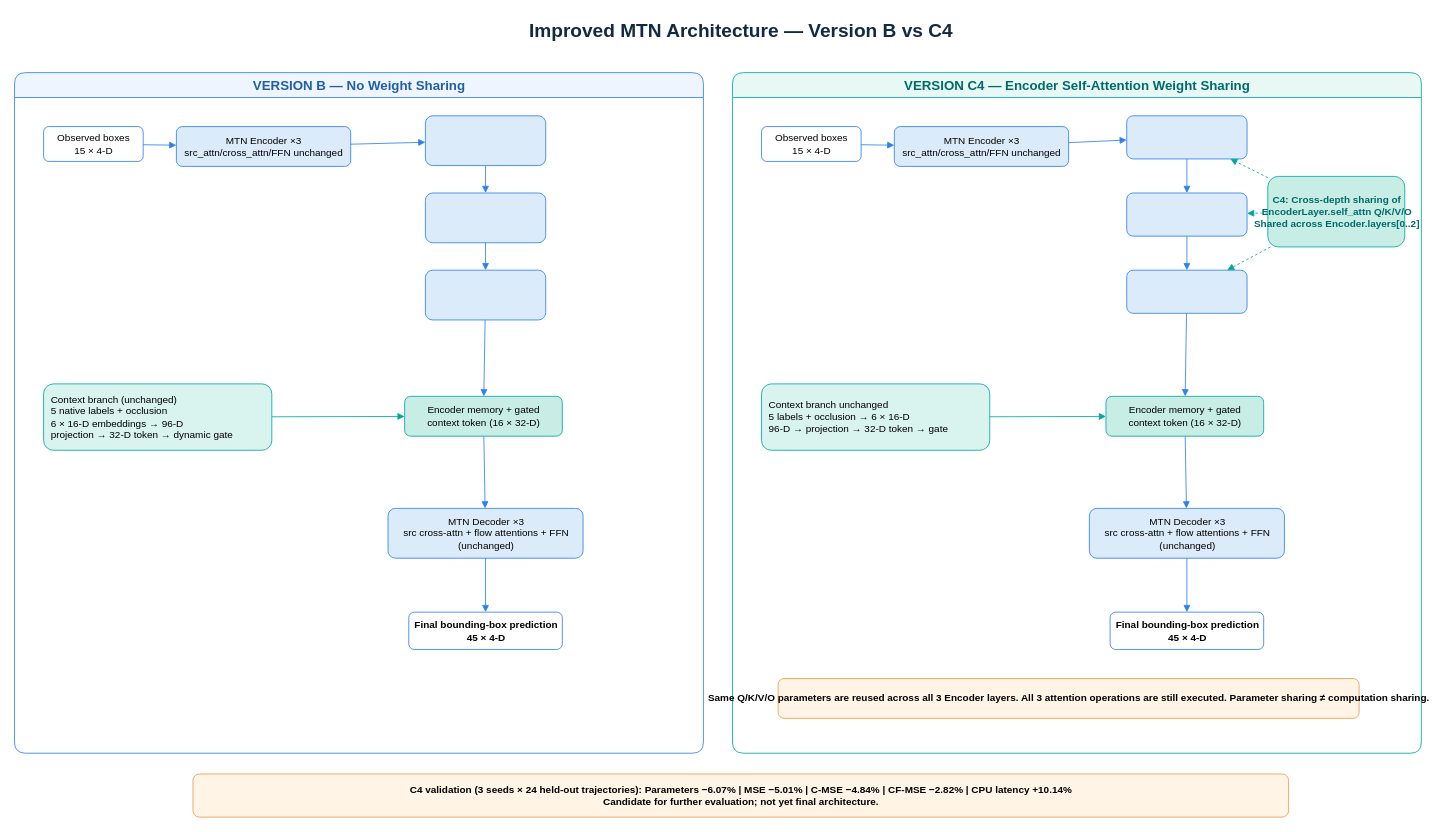
Some shapes in this 1443 by 832 pixel diagram are drawn without their labels. Each missing label, with the centre of its shape:
Layer 1 Self-Attention A own Q/K/V/O: the point at 485,140
Layer 1 self-attn executes: the point at 1186,137
Layer 2 Self-Attention B own Q/K/V/O: the point at 485,217
Layer 2 self-attn executes: the point at 1186,214
Layer 3 Self-Attention C own Q/K/V/O: the point at 485,294
Layer 3 self-attn executes: the point at 1186,291
